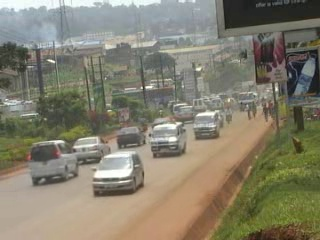Car: (90, 150, 148, 197), (27, 136, 80, 185), (72, 134, 111, 164), (115, 124, 147, 150), (174, 105, 197, 123), (189, 96, 205, 112)
Motorcycle: (223, 104, 234, 124)
